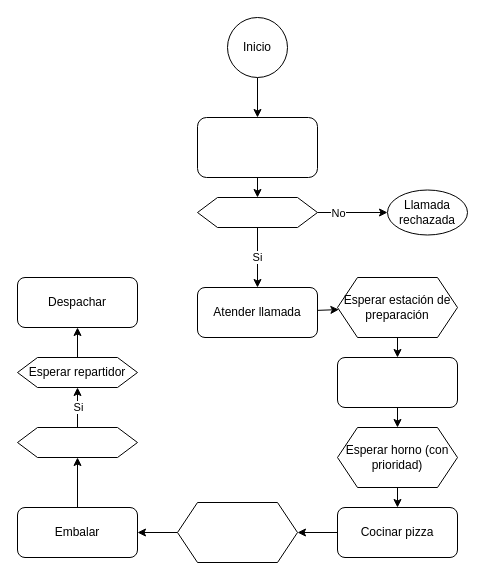
Some shapes in this 485 by 580 pixel diagram are drawn without their labels. The shapes that lost their labels are listed below. From the top down, each one's centre as x and y in pixels, then its label:
(x=257, y=147): Llegada llamada
(x=257, y=212): Linea disponible?
(x=397, y=382): Preparar pizza
(x=77, y=442): Pedido listo?
(x=237, y=532): Esperar embalaje (con prioridades)
